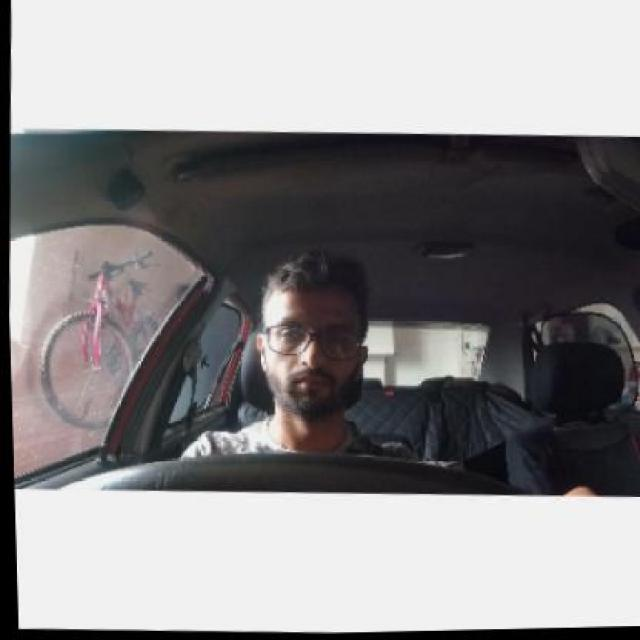drowsy: (243, 248, 384, 433)
